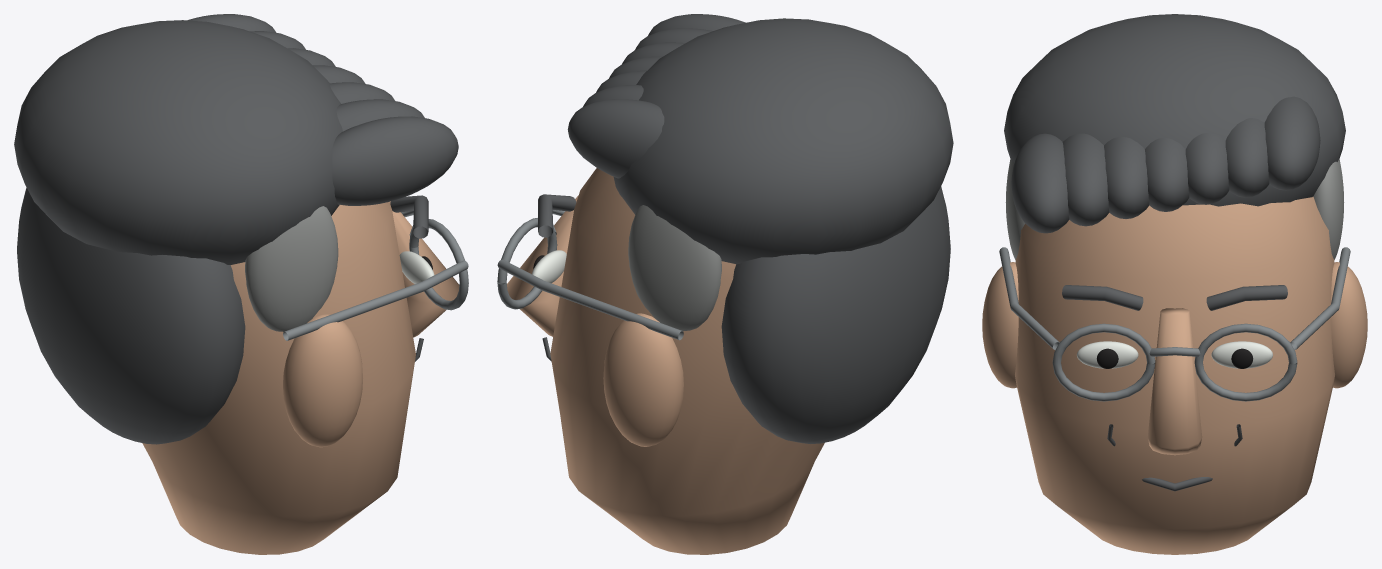
Rendered from SM_Teacher_Head.glb.
3 renders of one model, left to right at view 1: azimuth 30°, elevation 25°; view 2: azimuth 150°, elevation 25°; view 3: azimuth 270°, elevation 25°, orthographic. The views are drawn at different scales.
Parts seen in each view (by area): view 1: SM_Teacher_Head; view 2: SM_Teacher_Head; view 3: SM_Teacher_Head.
Boxes of the visible parts, x1,y1,x2,y2 form: SM_Teacher_Head: [14, 14, 468, 554]; SM_Teacher_Head: [497, 14, 953, 554]; SM_Teacher_Head: [982, 14, 1367, 554].
Size of the model in its own units: 0.25 by 0.279 by 0.212.
